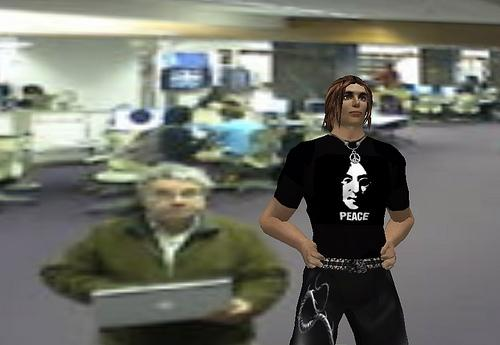apple: (159, 300, 171, 311)
